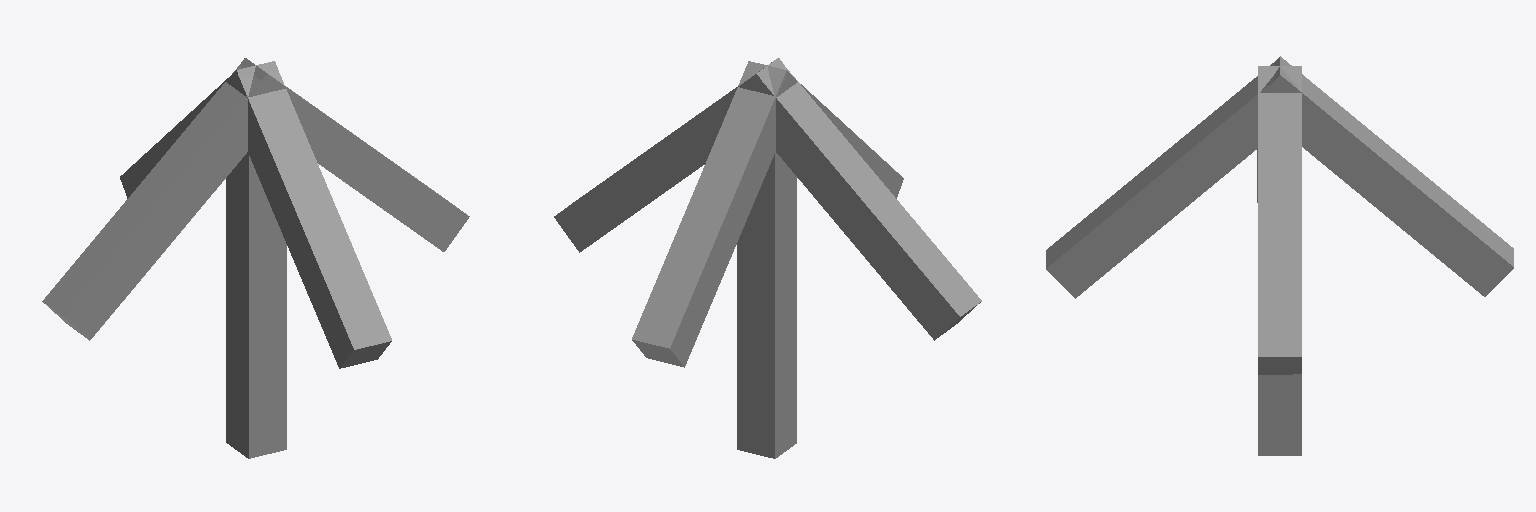
Rendered from Arrow.obj.
3 renders of one model, left to right at view 1: azimuth 30°, elevation 25°; view 2: azimuth 150°, elevation 25°; view 3: azimuth 270°, elevation 25°, orthographic.
Parts seen in each view (by area): view 1: Cube.003_Cube.004, Cube.002_Cube.003, Cube.001_Cube.002, Cube.004_Cube.005, Cube; view 2: Cube.003_Cube.004, Cube, Cube.001_Cube.002, Cube.004_Cube.005, Cube.002_Cube.003; view 3: Cube, Cube.002_Cube.003, Cube.004_Cube.005, Cube.001_Cube.002.
Boxes of the visible parts, x1,y1,x2,y2 form: Cube.003_Cube.004: [42, 65, 260, 340]; Cube.002_Cube.003: [228, 70, 391, 368]; Cube.001_Cube.002: [226, 152, 286, 458]; Cube.004_Cube.005: [240, 58, 469, 251]; Cube: [120, 61, 277, 198]; Cube.003_Cube.004: [731, 66, 981, 340]; Cube: [632, 61, 788, 367]; Cube.001_Cube.002: [737, 152, 796, 458]; Cube.004_Cube.005: [554, 58, 784, 252]; Cube.002_Cube.003: [773, 72, 903, 198]; Cube: [1250, 56, 1513, 296]; Cube.002_Cube.003: [1046, 63, 1273, 298]; Cube.004_Cube.005: [1258, 66, 1301, 374]; Cube.001_Cube.002: [1258, 374, 1301, 455].
Bounding box in the file's own units: 5.4 × 4.85 × 5.4.